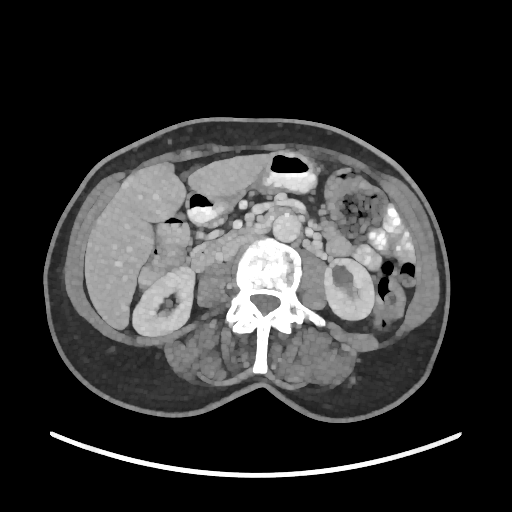Lesion: (328, 263, 356, 291)
